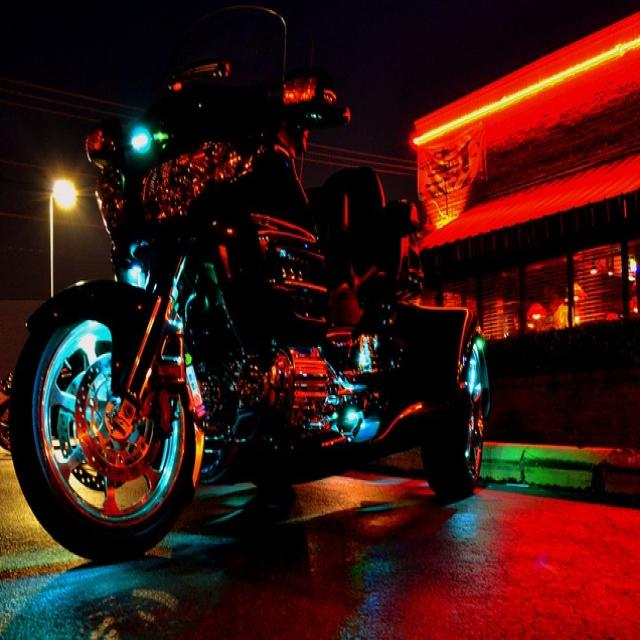Motorbike: (66, 68, 479, 546)
